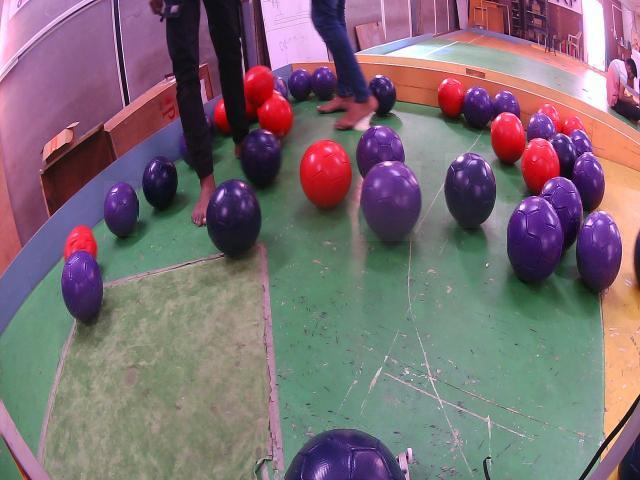jambhalya: (507, 195, 563, 283), (362, 161, 421, 241), (576, 211, 621, 291), (540, 177, 582, 248), (62, 250, 102, 321), (356, 125, 405, 178), (573, 154, 605, 212), (105, 181, 138, 236), (464, 87, 493, 128), (527, 113, 557, 141), (312, 67, 336, 99), (493, 90, 520, 118), (289, 68, 311, 102), (570, 130, 592, 155), (180, 133, 193, 167), (274, 77, 289, 99)
kaalyya: (285, 428, 403, 480), (206, 180, 261, 256), (445, 154, 496, 228), (242, 130, 281, 186), (142, 156, 178, 209), (550, 134, 576, 180), (369, 75, 396, 116)
